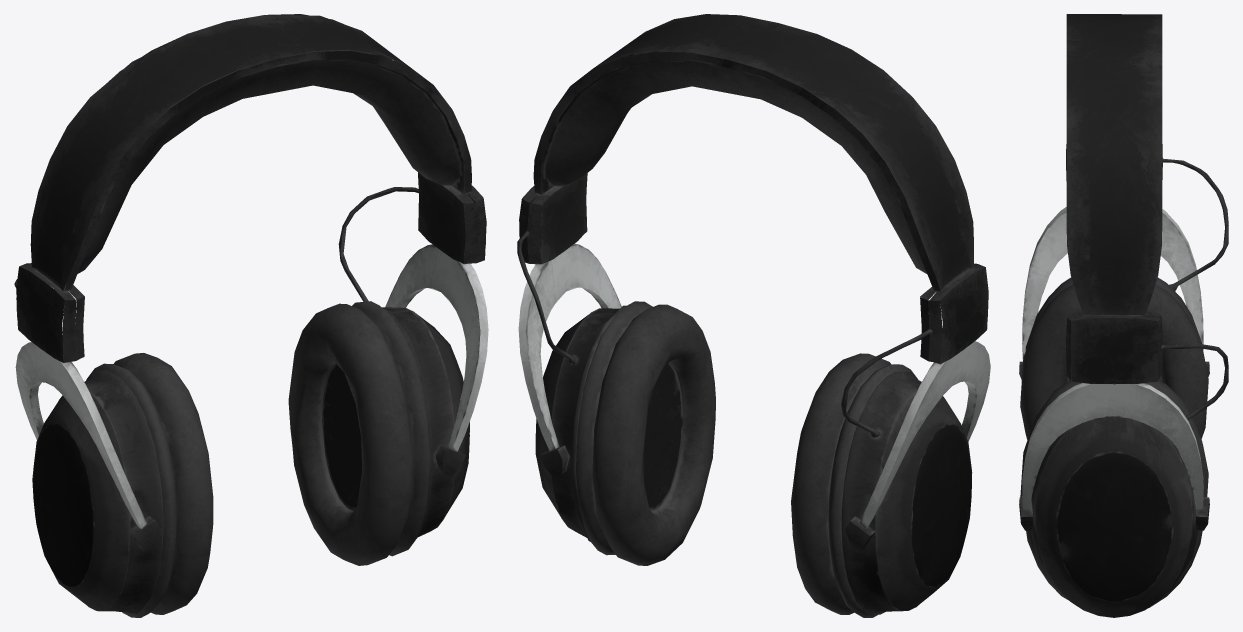
The model's file is hero_headset.glb.
3 views of the same model, side by side, from view 1: azimuth 30°, elevation 25°; view 2: azimuth 150°, elevation 25°; view 3: azimuth 270°, elevation 25° (orthographic). The views are drawn at different scales.
Visible parts, largest first — view 1: HyperX Cloud Headphones__0; view 2: HyperX Cloud Headphones__0; view 3: HyperX Cloud Headphones__0.
Part boxes in pixels (box(x1,y1,x2,y2)): HyperX Cloud Headphones__0: box(14, 14, 488, 617); HyperX Cloud Headphones__0: box(517, 14, 990, 617); HyperX Cloud Headphones__0: box(1019, 14, 1228, 617).
Bounding box in the file's own units: 1.63 × 2 × 0.735.
Materials: 1 (1 with a texture image).
